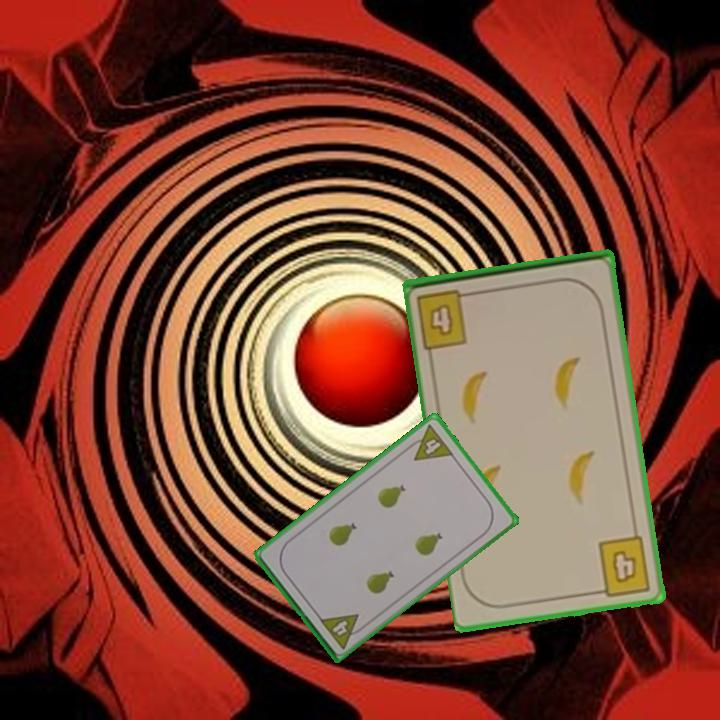4b: (413, 285, 479, 352), (591, 532, 654, 599)
4p: (402, 421, 456, 464), (316, 610, 369, 652)
